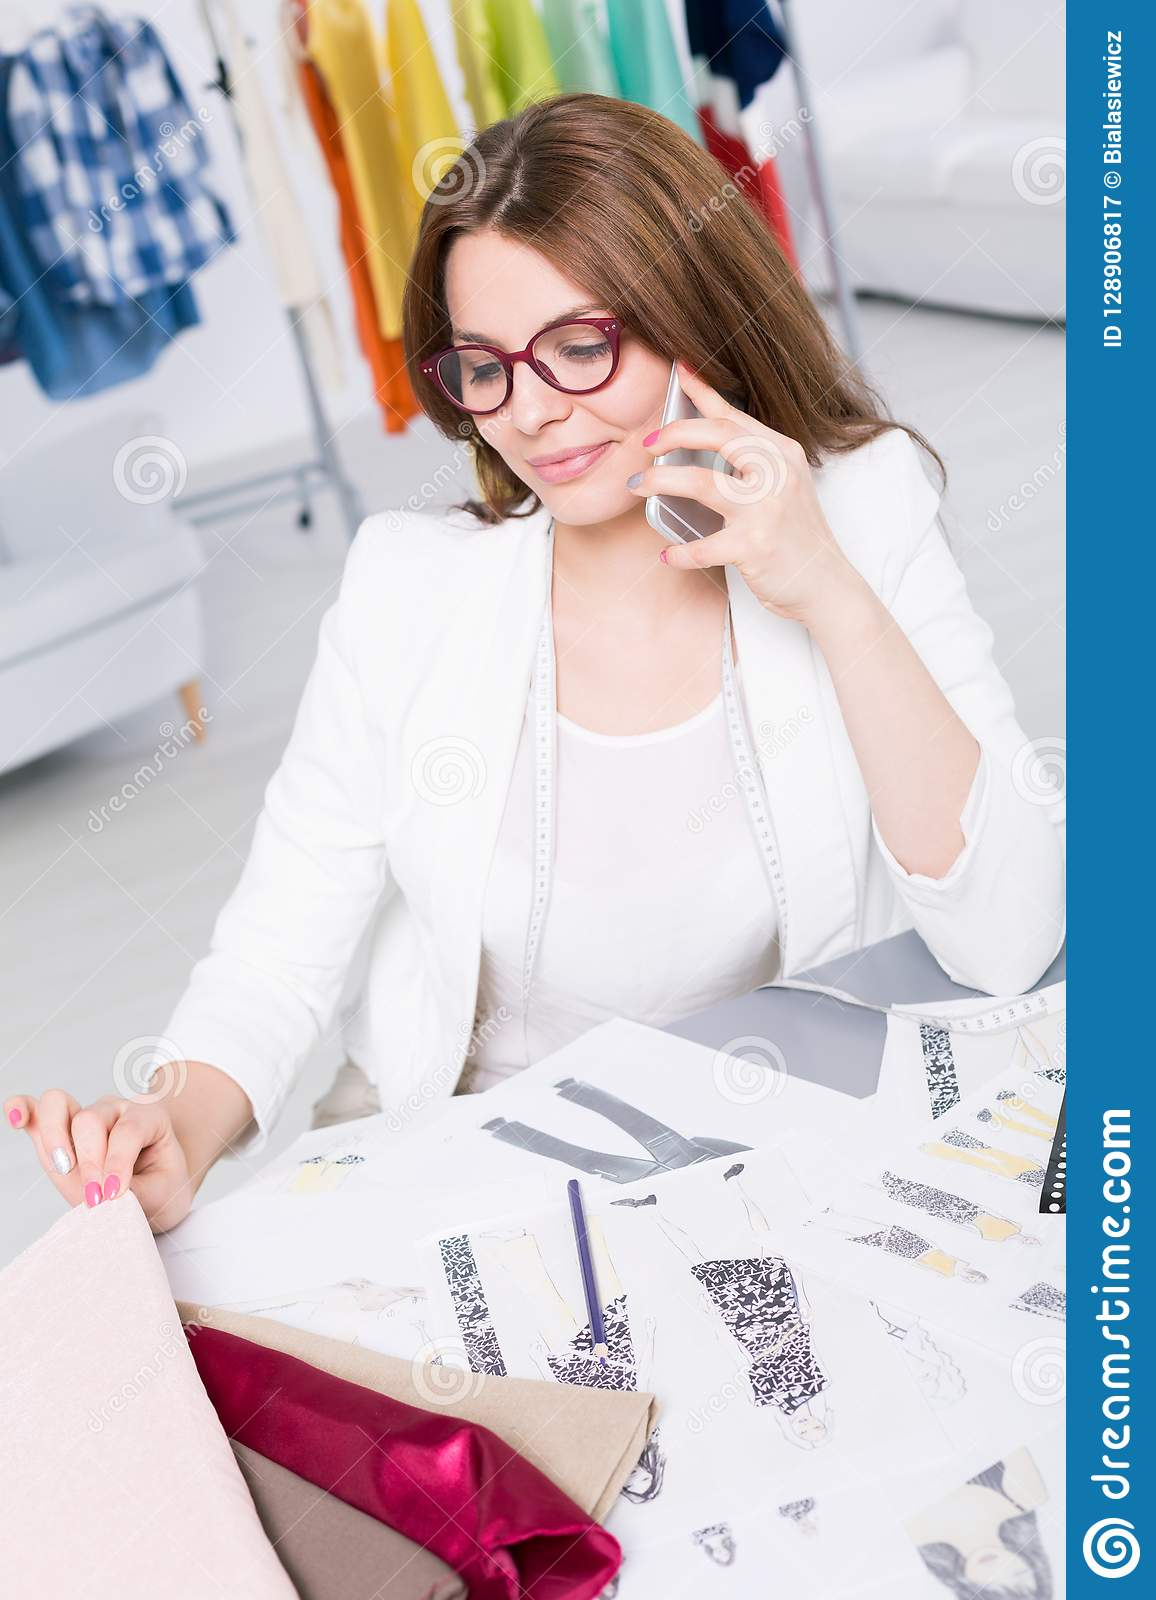phone: (649, 358, 735, 583)
talk: (448, 292, 848, 631)
